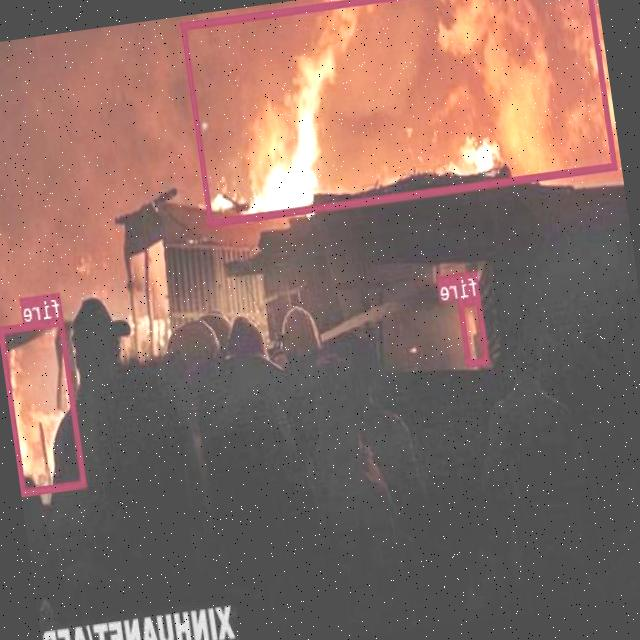fire: (181, 0, 618, 225), (0, 318, 88, 494), (460, 296, 490, 366)
